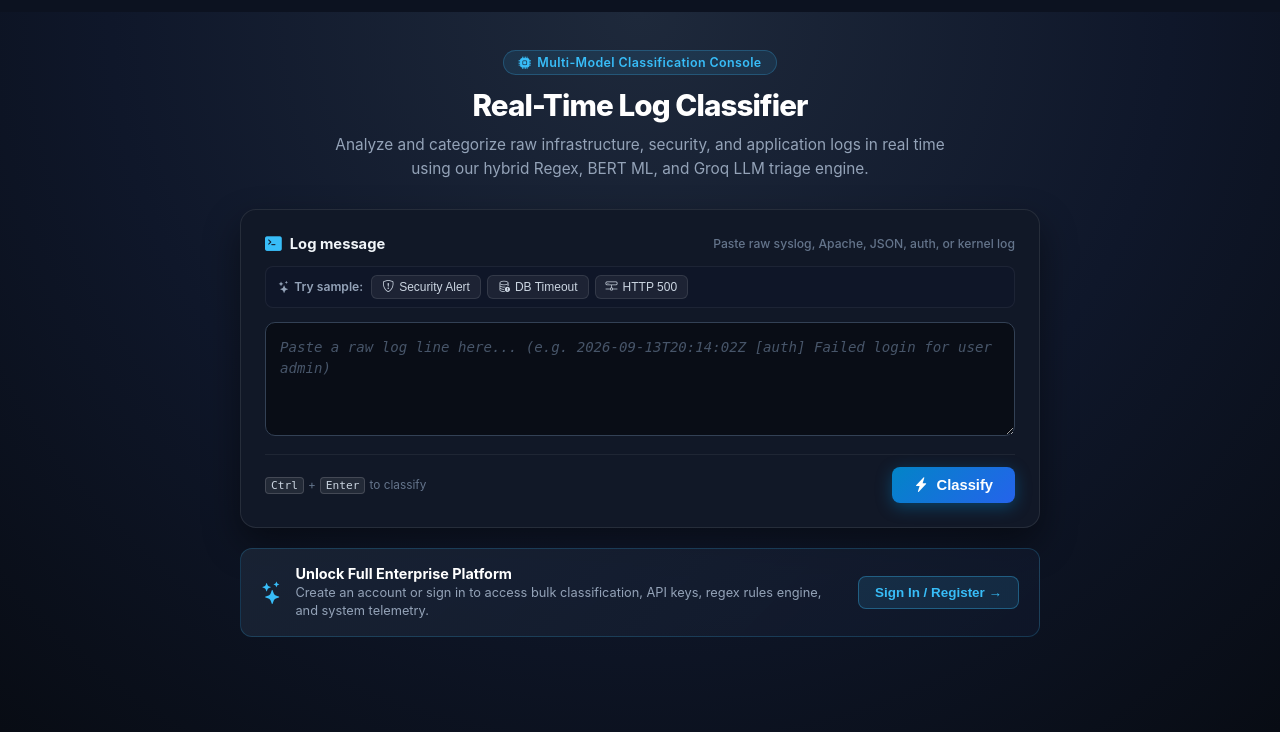
Scenario: App integration (mocked API) › submits feedback and clears the review flag when the user confirms a low-confidence result
In the text box with test id "log-textarea": point(640, 379) [265,322,1015,436], type "rare unseen pattern"
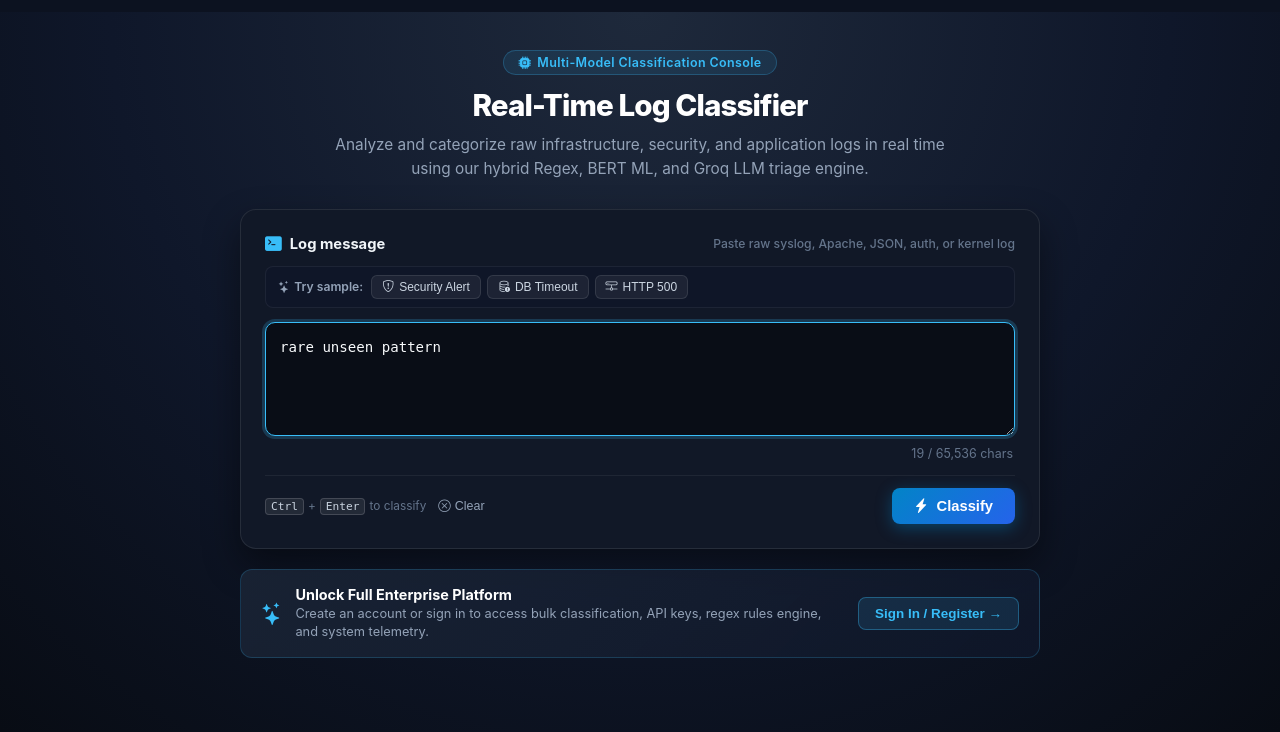
Click the button with test id "classify-button": point(953, 506) [892,488,1015,524]
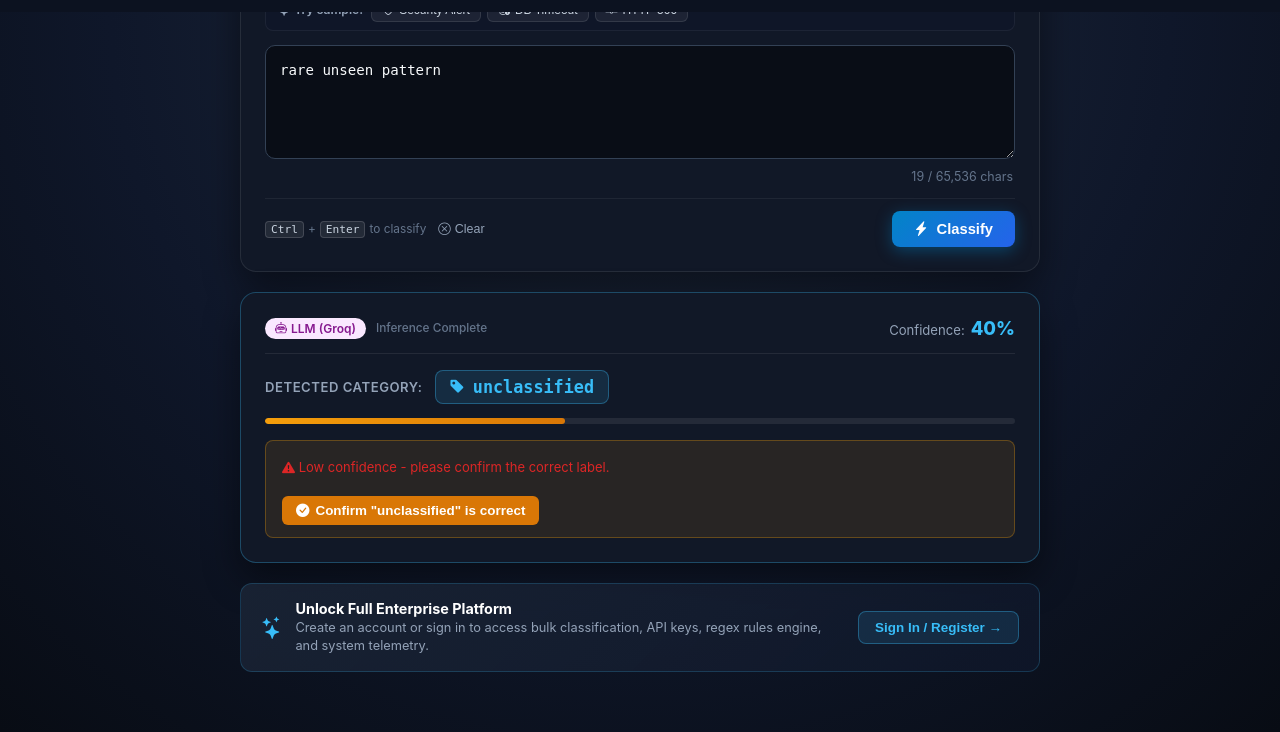
Expected: the element with test id "review-flag" is shown, [282,459,609,475]
Click the button with test id "confirm-correct-button": point(411, 510) [282,496,539,525]
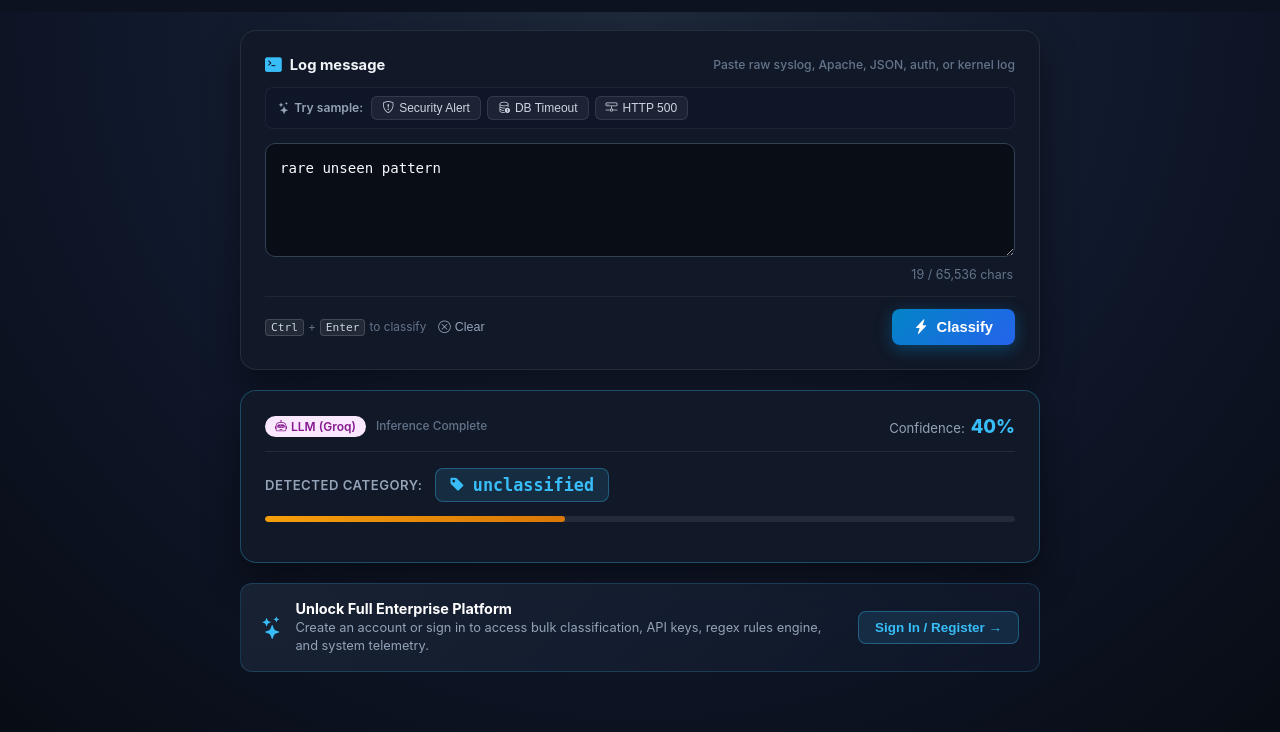
Expected: the element with test id "review-flag" is gone
